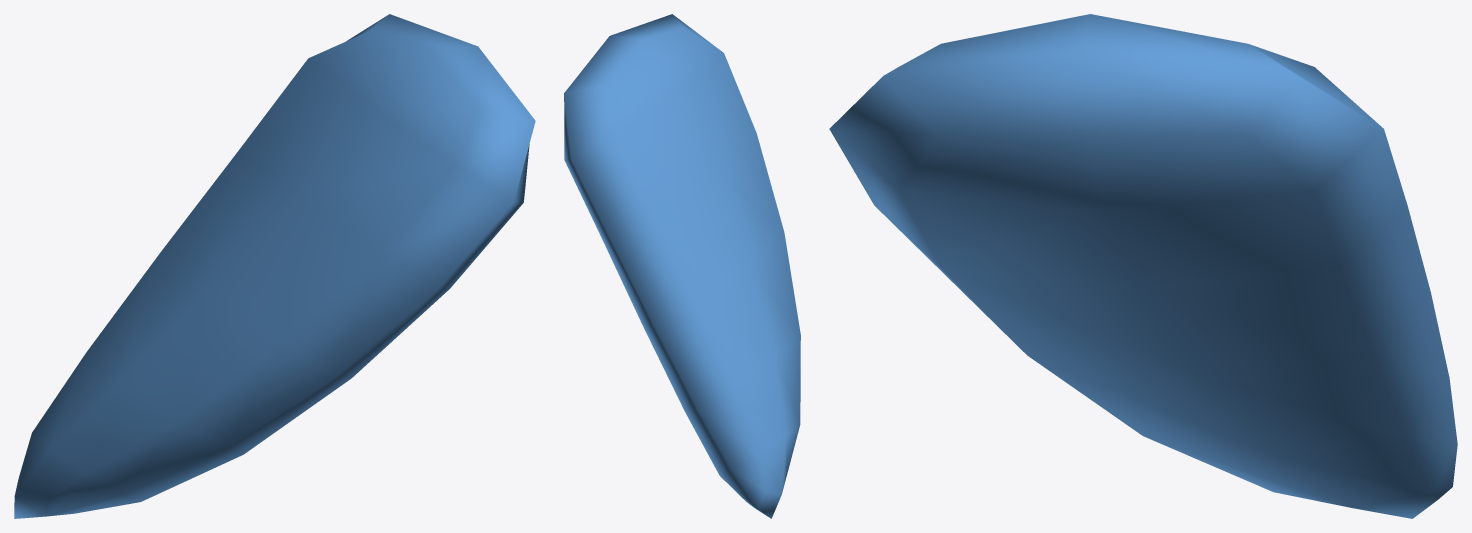
The model's file is SharkChara_RightHand.fbx.
3 views of the same model, side by side, from view 1: azimuth 30°, elevation 25°; view 2: azimuth 150°, elevation 25°; view 3: azimuth 270°, elevation 25° (orthographic). The views are drawn at different scales.
Parts seen in each view (by area): view 1: polySurface68; view 2: polySurface68; view 3: polySurface68.
Part boxes in pixels (box(x1,y1,x2,y2)): polySurface68: box(14, 14, 535, 518); polySurface68: box(564, 14, 800, 518); polySurface68: box(829, 14, 1457, 518).
Bounding box in the file's own units: 9.03 × 11.38 × 9.39.
